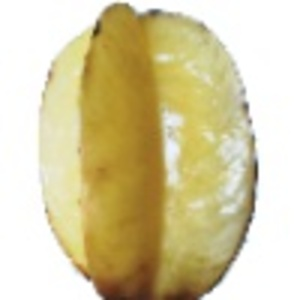carambola: (36, 1, 260, 300)
